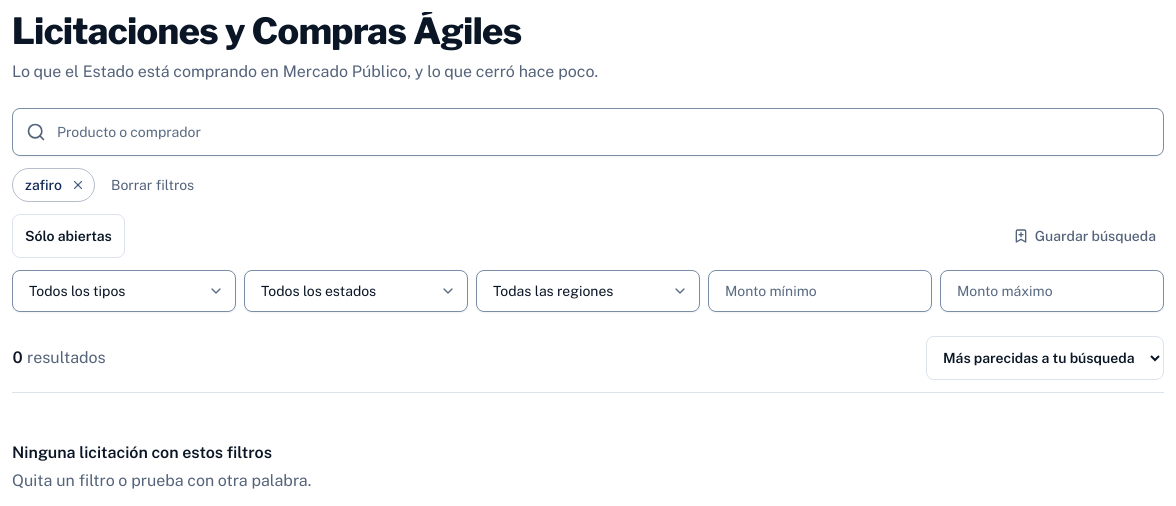
Test: la pantalla del catálogo › «Guardar búsqueda» la guarda con sus filtros
The width and height of the screenshot is (1176, 506).
Click the button "Guardar búsqueda" at (1084, 236), box [1005,214,1164,258]
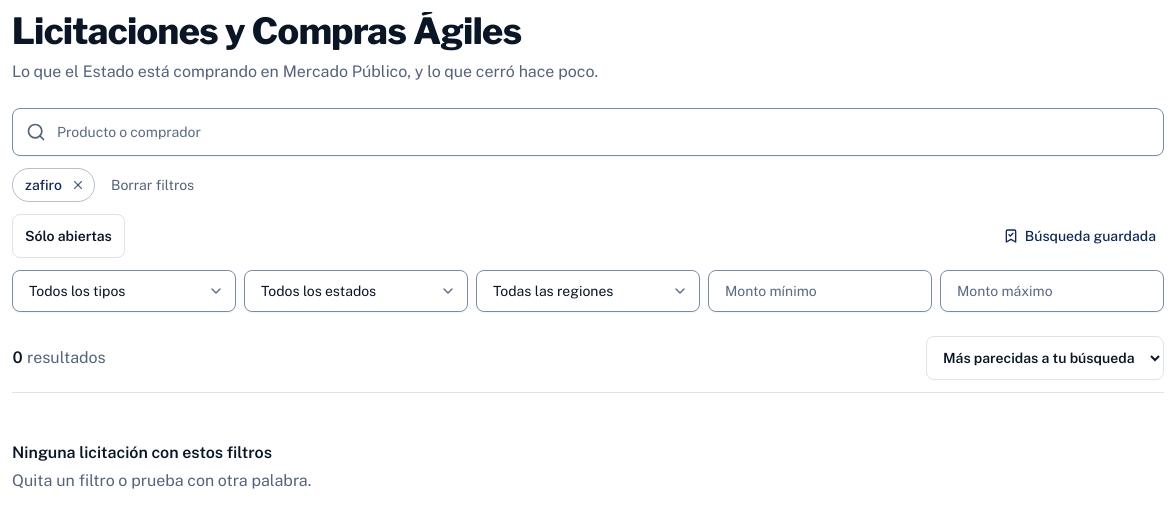
Now the link "Búsqueda guardada" is shown, box [1003,228,1156,244]
